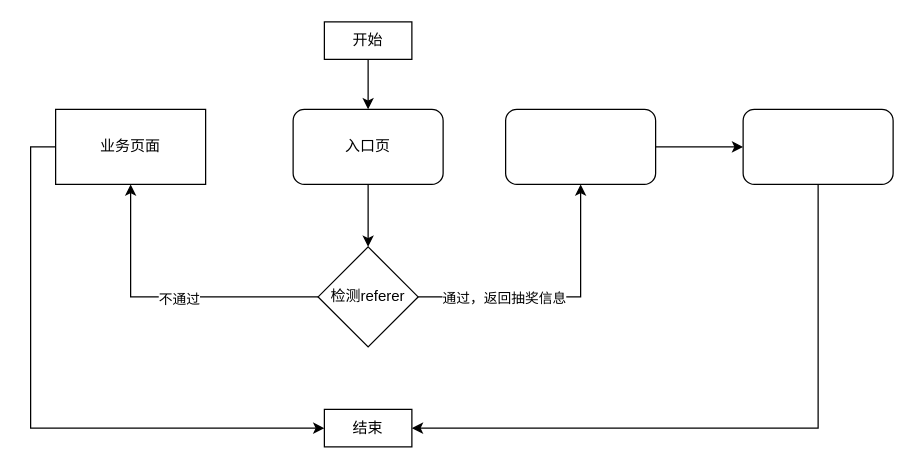
Some shapes in this 915 by 469 pixel diagram are drawn without their labels. The centre of each missing label's shape, as x and y in pixels:
"抽奖页" goes at (817,146).
"登录流程" goes at (580,146).
